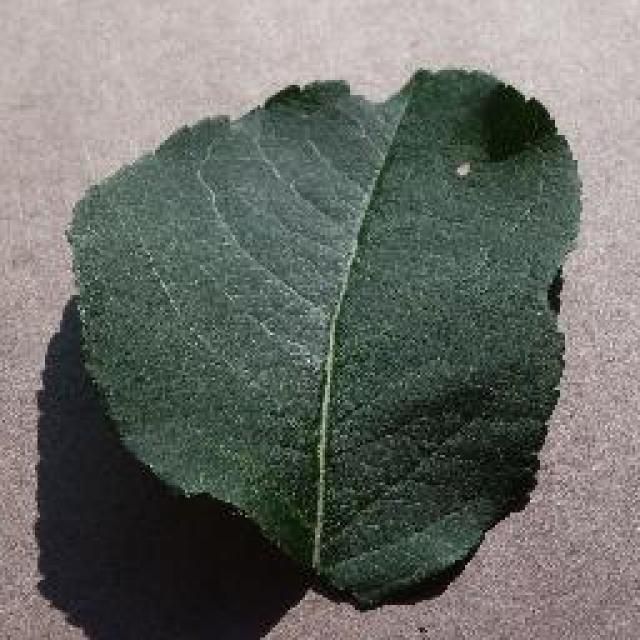apple healthy: (62, 62, 582, 608)
